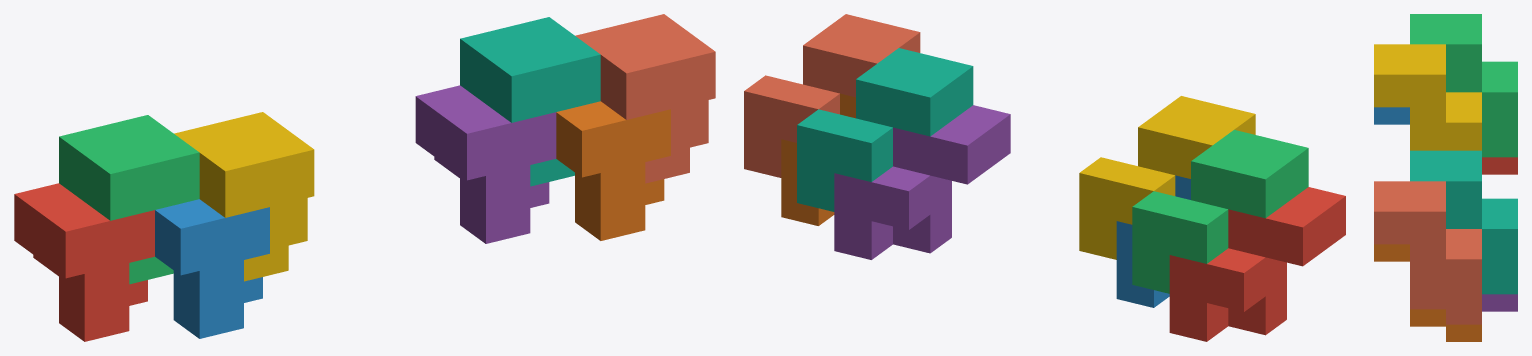
The model's file is tiling.obj.
3 views of the same model, side by side, from view 1: azimuth 30°, elevation 25°; view 2: azimuth 150°, elevation 25°; view 3: azimuth 270°, elevation 25° (orthographic). The views are drawn at different scales.
Visible parts, largest first — view 1: copy_1_domain_5, copy_1_domain_1, copy_1_domain_4, copy_1_domain_8, copy_1_domain_7, copy_1_domain_3, copy_1_domain_6, copy_1_domain_2; view 2: copy_1_domain_1, copy_1_domain_5, copy_1_domain_3, copy_1_domain_7, copy_1_domain_4, copy_1_domain_8, copy_1_domain_2, copy_1_domain_6; view 3: copy_1_domain_8, copy_1_domain_4, copy_1_domain_7, copy_1_domain_3, copy_1_domain_6, copy_1_domain_1, copy_1_domain_2, copy_1_domain_5.
Part boxes in pixels (x1=…): copy_1_domain_5: x1=415, y1=85, x2=556, y2=243; copy_1_domain_1: x1=14, y1=183, x2=154, y2=341; copy_1_domain_4: x1=174, y1=112, x2=314, y2=281; copy_1_domain_8: x1=575, y1=14, x2=715, y2=183; copy_1_domain_7: x1=460, y1=17, x2=600, y2=186; copy_1_domain_3: x1=59, y1=115, x2=199, y2=284; copy_1_domain_6: x1=556, y1=101, x2=670, y2=240; copy_1_domain_2: x1=155, y1=199, x2=269, y2=338; copy_1_domain_1: x1=1169, y1=187, x2=1345, y2=341; copy_1_domain_5: x1=834, y1=105, x2=1010, y2=259; copy_1_domain_3: x1=1132, y1=129, x2=1308, y2=293; copy_1_domain_7: x1=797, y1=48, x2=973, y2=211; copy_1_domain_4: x1=1079, y1=96, x2=1255, y2=259; copy_1_domain_8: x1=744, y1=14, x2=920, y2=177; copy_1_domain_2: x1=1116, y1=175, x2=1190, y2=307; copy_1_domain_6: x1=781, y1=93, x2=855, y2=225; copy_1_domain_8: x1=1374, y1=181, x2=1481, y2=324; copy_1_domain_4: x1=1374, y1=44, x2=1481, y2=150; copy_1_domain_7: x1=1410, y1=150, x2=1517, y2=294; copy_1_domain_3: x1=1410, y1=14, x2=1517, y2=157; copy_1_domain_6: x1=1374, y1=244, x2=1481, y2=341; copy_1_domain_1: x1=1482, y1=157, x2=1517, y2=174; copy_1_domain_2: x1=1374, y1=107, x2=1409, y2=124; copy_1_domain_5: x1=1482, y1=294, x2=1517, y2=311.
Size of the model in its own units: 15 by 4 by 4.
